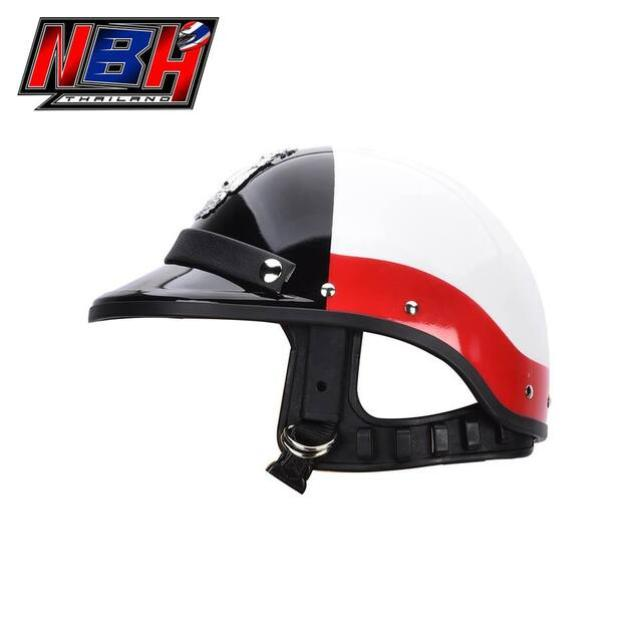Helmet: (80, 126, 556, 494)
